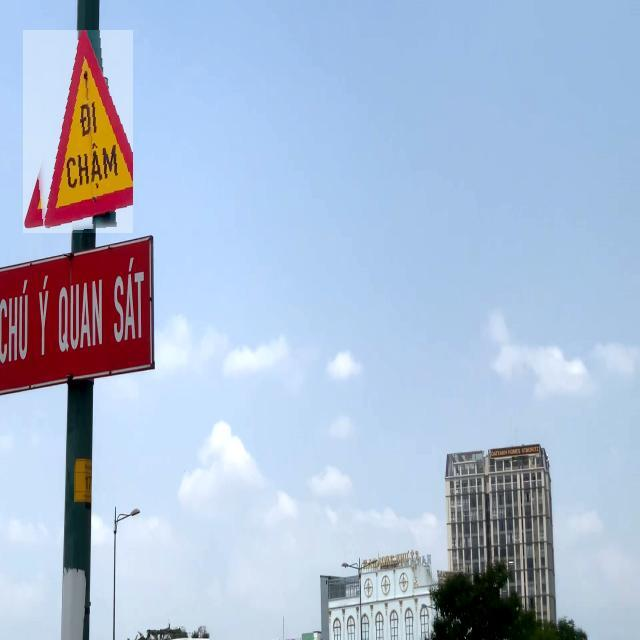W-245a: (23, 30, 133, 233)
